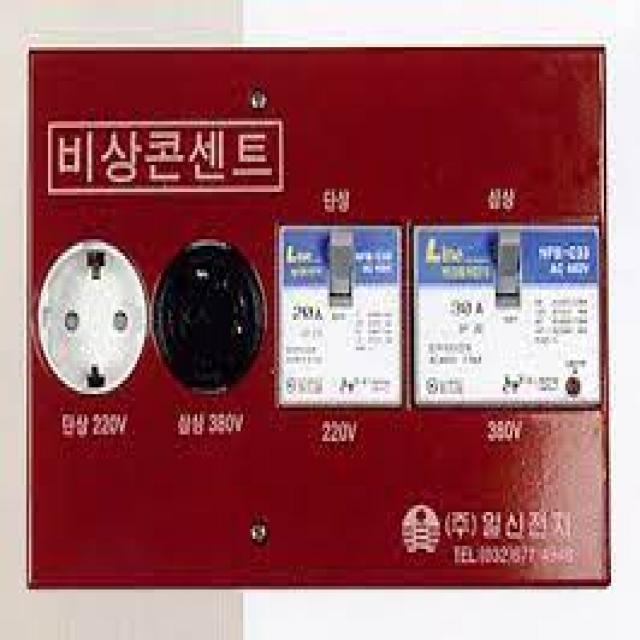typeb: (26, 226, 278, 462)
